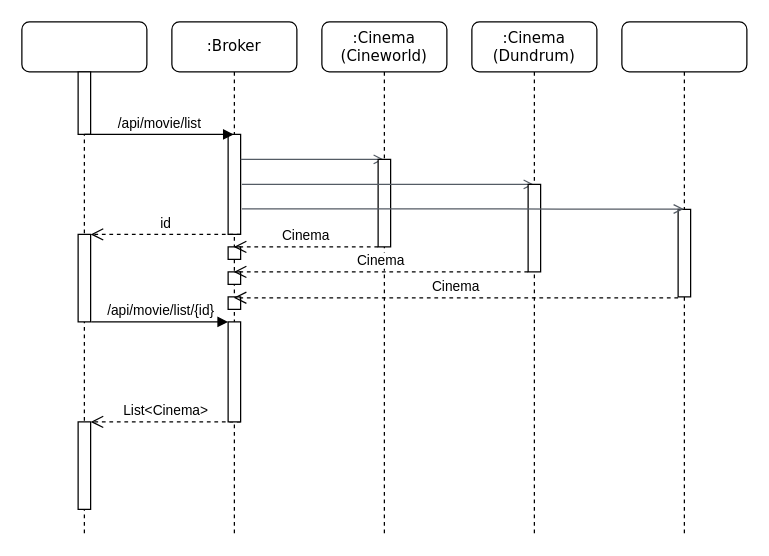
Some shapes in this 769 by 556 pixel diagram are drawn without their labels. The shapes that lost their labels are listed below. From the top down, each one's box as (x1, y1, x2, y2) in pixels, then its label:
(21, 21, 147, 534): :Client
(621, 21, 747, 534): :Cinema (UCD)
